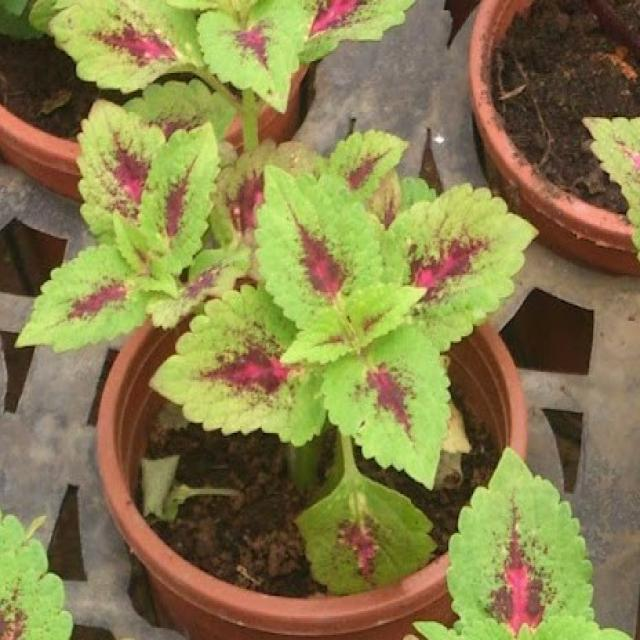Coleus: (51, 2, 408, 394), (188, 154, 530, 484)
